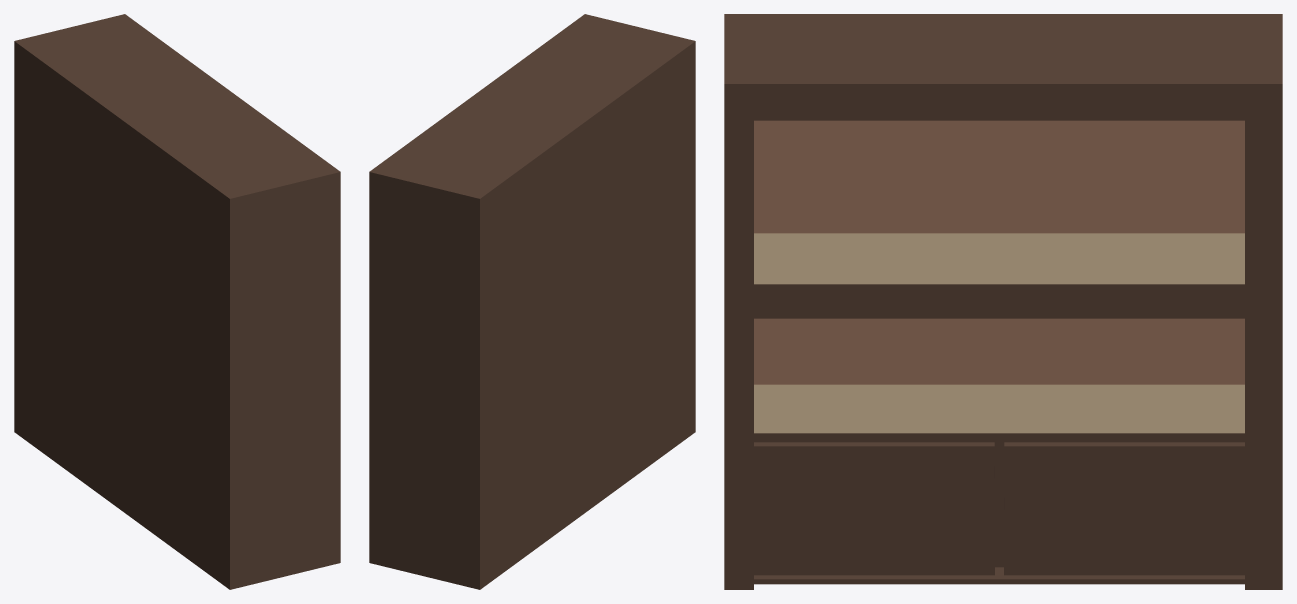
Rendered from Estante.fbx.
3 renders of one model, left to right at view 1: azimuth 30°, elevation 25°; view 2: azimuth 150°, elevation 25°; view 3: azimuth 270°, elevation 25°, orthographic. The views are drawn at different scales.
Parts seen in each view (by area): view 1: Cubo; view 2: Cubo; view 3: Cubo.
Part boxes in pixels (left/top/right/bottom): Cubo: left=14, top=14, right=340, bottom=589; Cubo: left=369, top=14, right=695, bottom=589; Cubo: left=724, top=14, right=1282, bottom=589.
Size of the model in its own units: 338 by 1139 by 1139.
